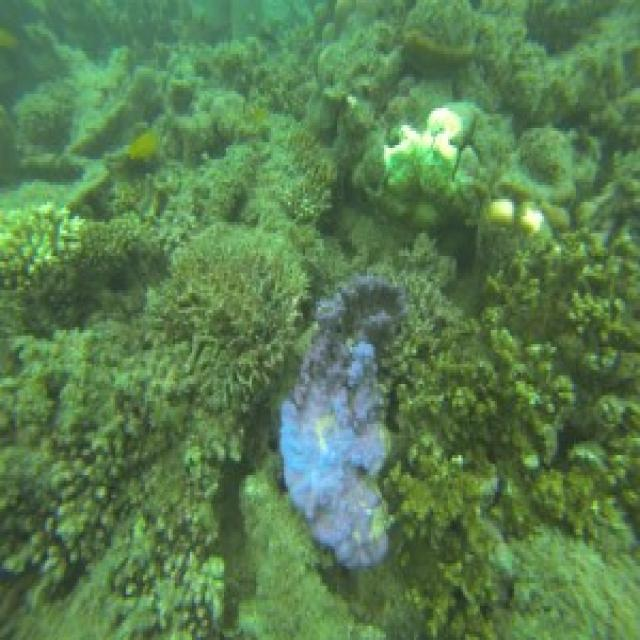Bleached: (385, 109, 462, 169)
Healthy: (1, 81, 330, 638), (383, 305, 639, 559), (142, 223, 308, 556), (280, 277, 406, 564)
